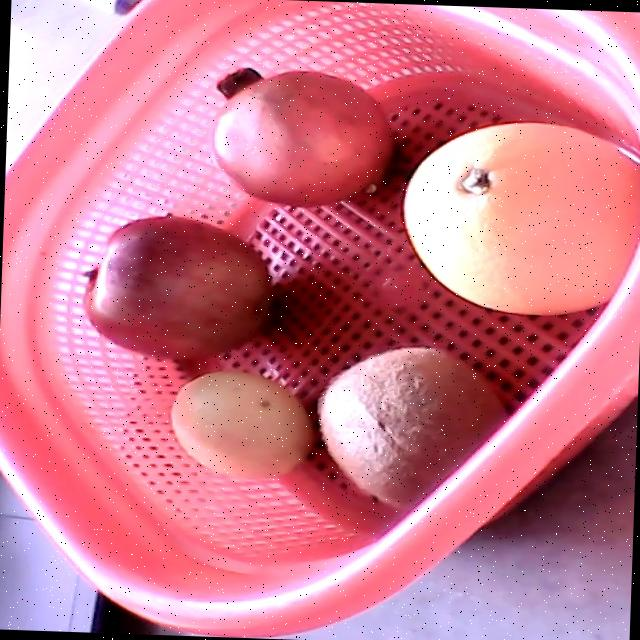apple: (82, 215, 272, 359)
kiwi: (320, 346, 507, 513)
lemon: (170, 370, 315, 479)
orange: (402, 120, 640, 314)
